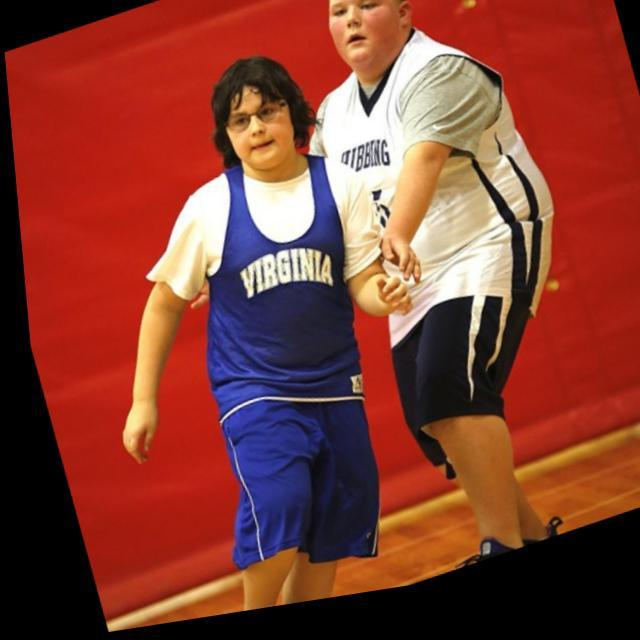Nonhelmet: (203, 43, 307, 175)
